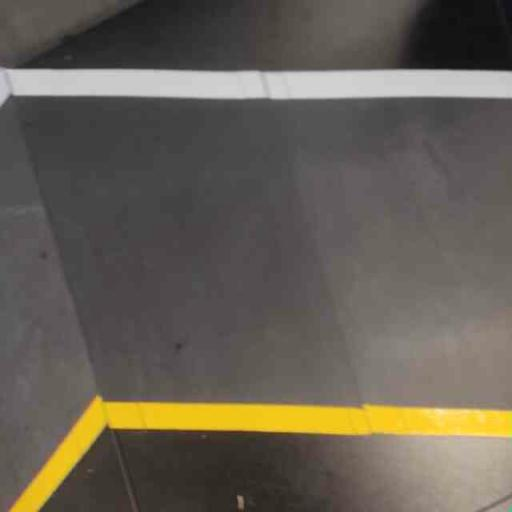left: (105, 44, 511, 442)
